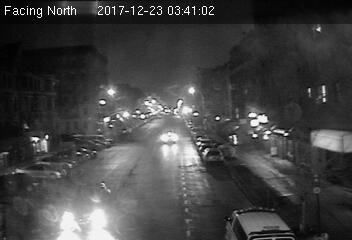car: (201, 147, 224, 163), (159, 131, 179, 144)
police: (222, 206, 297, 240)
